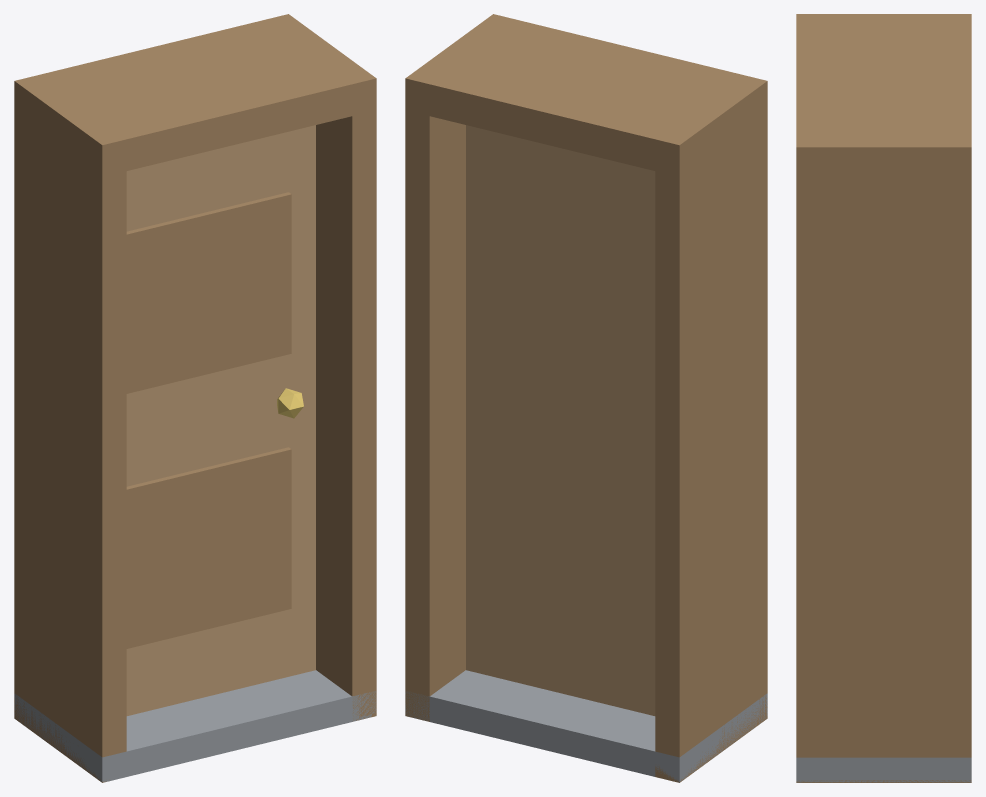
Rendered from animprop_door_00.glb.
3 renders of one model, left to right at view 1: azimuth 30°, elevation 25°; view 2: azimuth 150°, elevation 25°; view 3: azimuth 270°, elevation 25°, orthographic.
Parts seen in each view (by area): view 1: animprop; view 2: animprop; view 3: animprop.
Part boxes in pixels (x1,y1,x2,y2): animprop: (14, 14, 376, 782); animprop: (405, 14, 767, 782); animprop: (796, 14, 971, 782).
Bounding box in the file's own units: 0.9 × 2 × 0.5.
